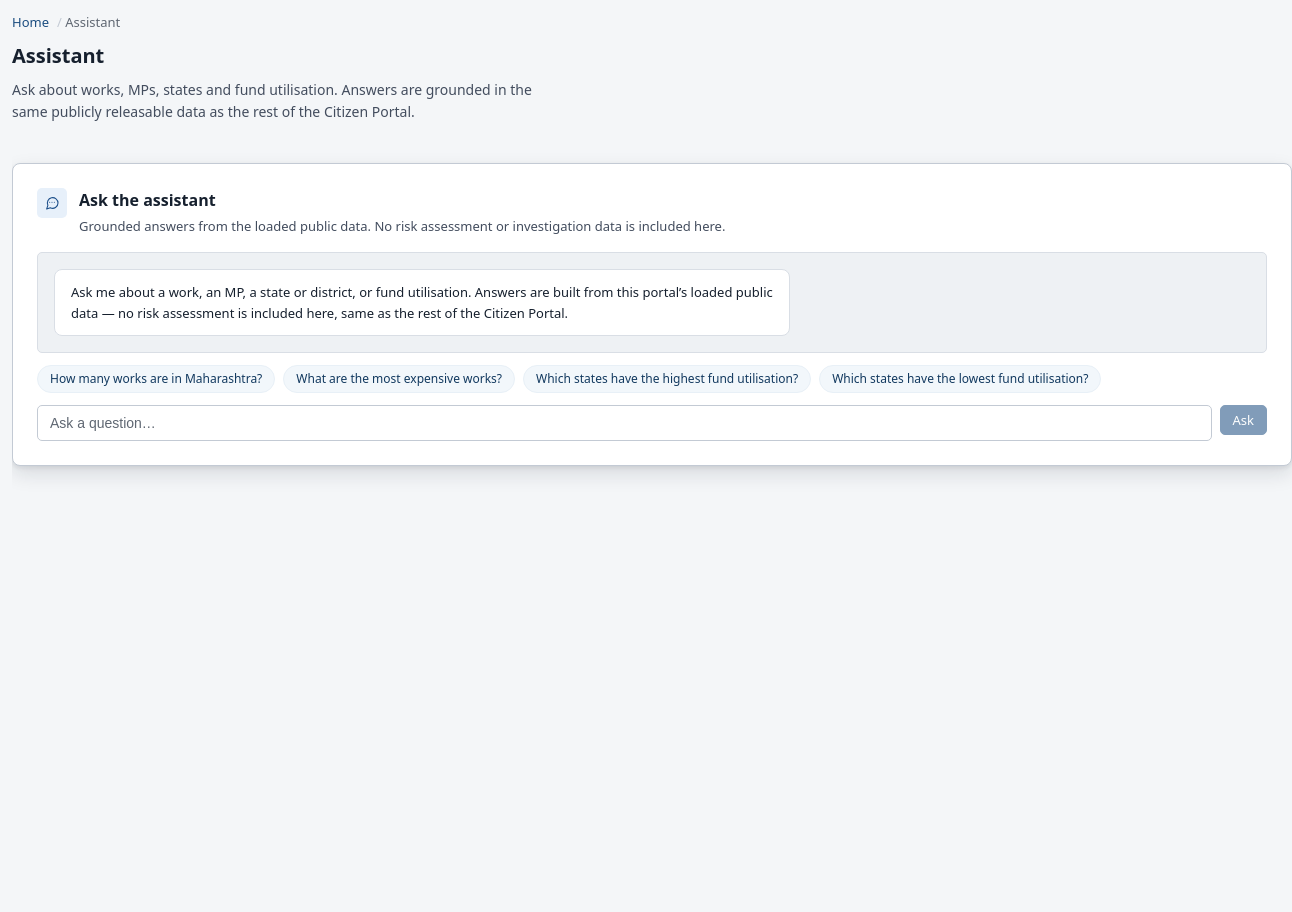
CitizenAssistant › answers a starter prompt with a grounded reply and a citizen-safe deep link
The width and height of the screenshot is (1292, 912).
Click the button "What are the most expensive works?" at (399,379), box [283,365,515,393]
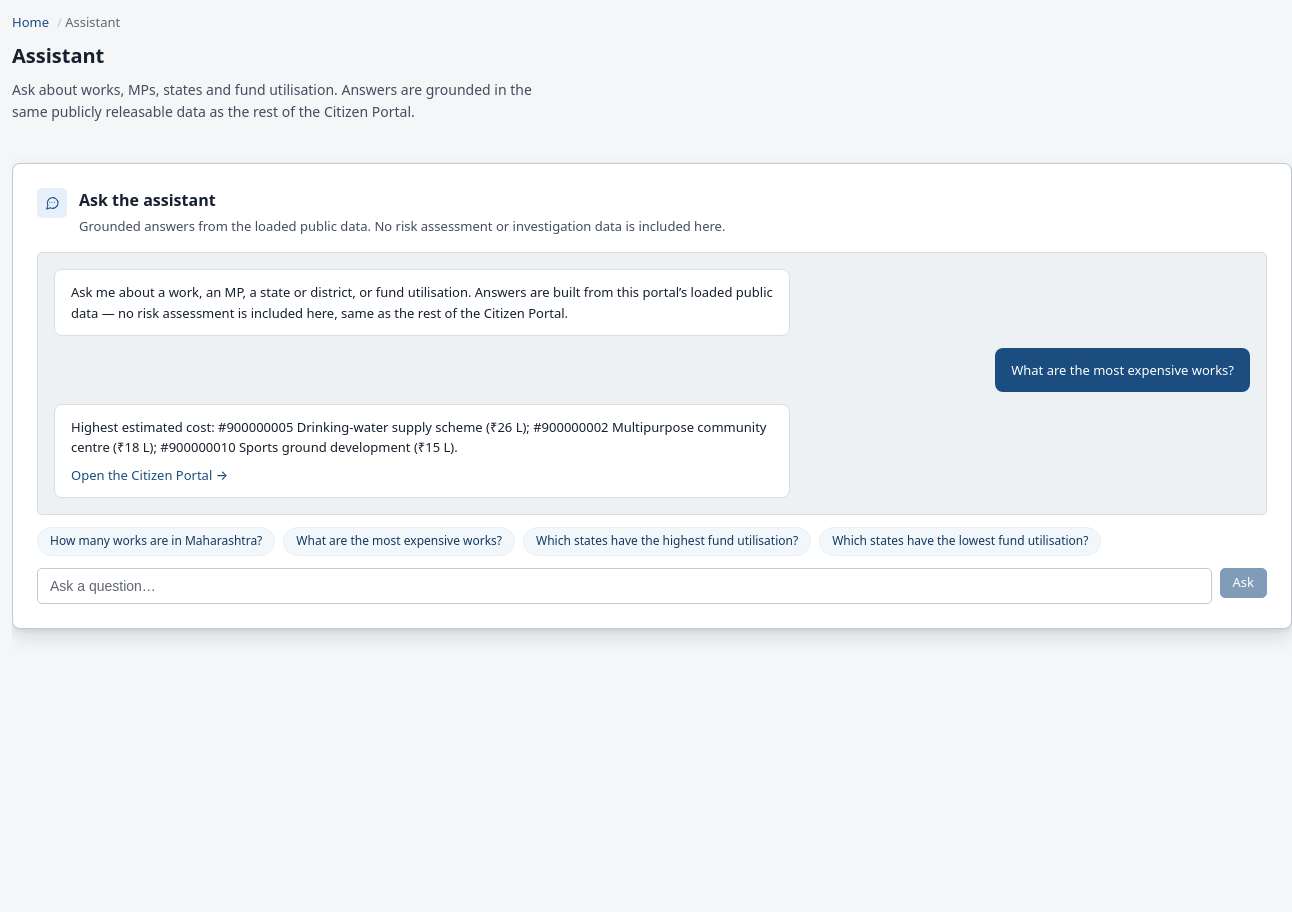
Expected: the text "Highest estimated cost" is shown, [71,418,770,456]
